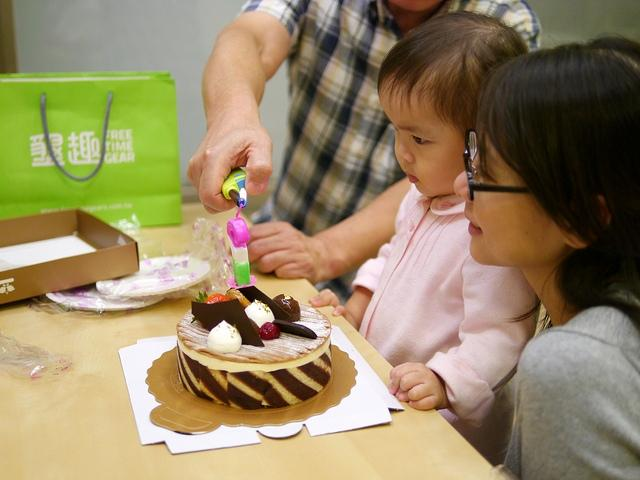strawberry: (191, 289, 230, 329), (260, 322, 281, 340)
